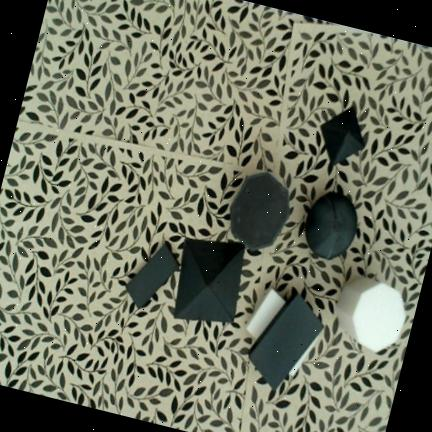Esfera: (304, 191, 357, 260)
Paralelepipedo: (248, 292, 323, 389), (245, 286, 319, 376), (126, 245, 179, 307)
Piramide: (173, 238, 245, 322), (320, 106, 364, 165)
Prisma_hexagonal: (336, 277, 405, 352), (230, 173, 288, 249)
